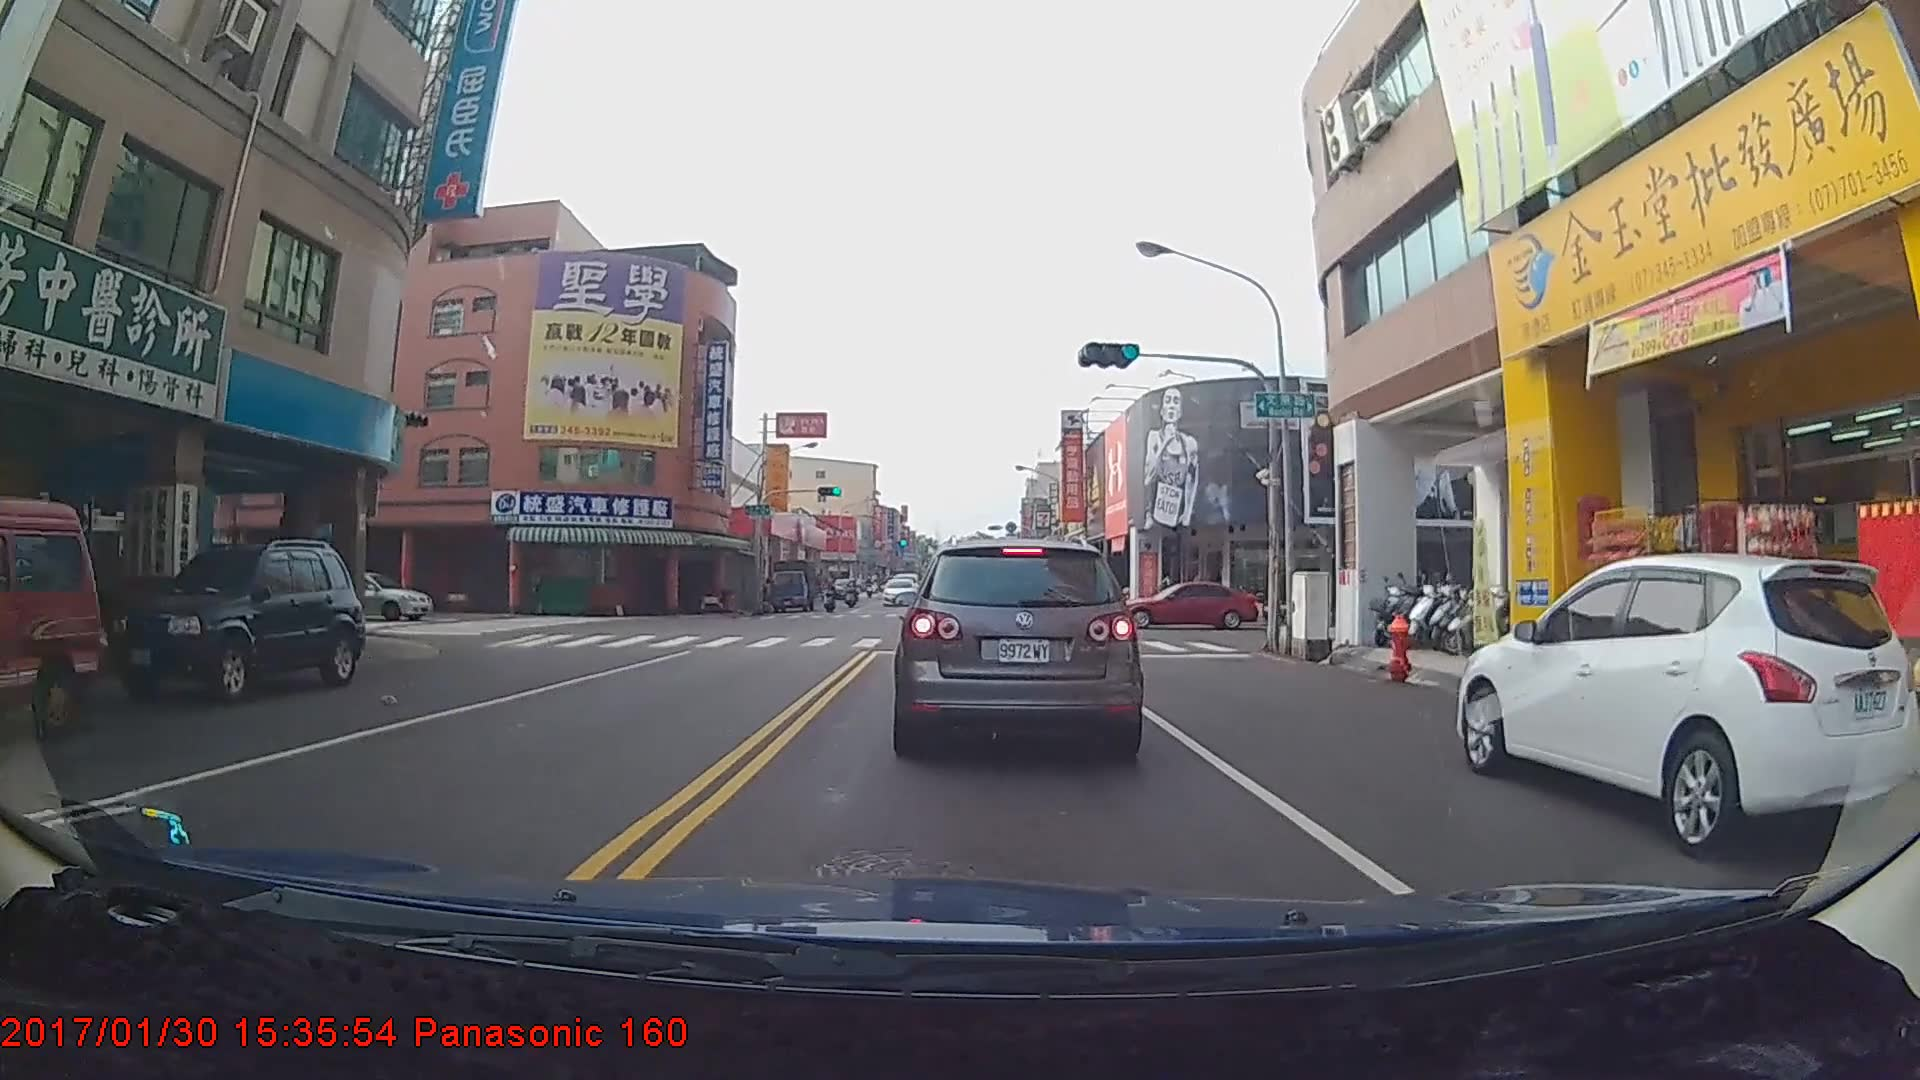rider: (816, 583, 840, 620), (843, 582, 863, 614)
vehicle: (1452, 552, 1919, 859), (896, 533, 1138, 758), (108, 538, 365, 703), (0, 496, 107, 748), (1111, 577, 1256, 629), (297, 571, 434, 622), (767, 562, 820, 617), (881, 579, 917, 609)
